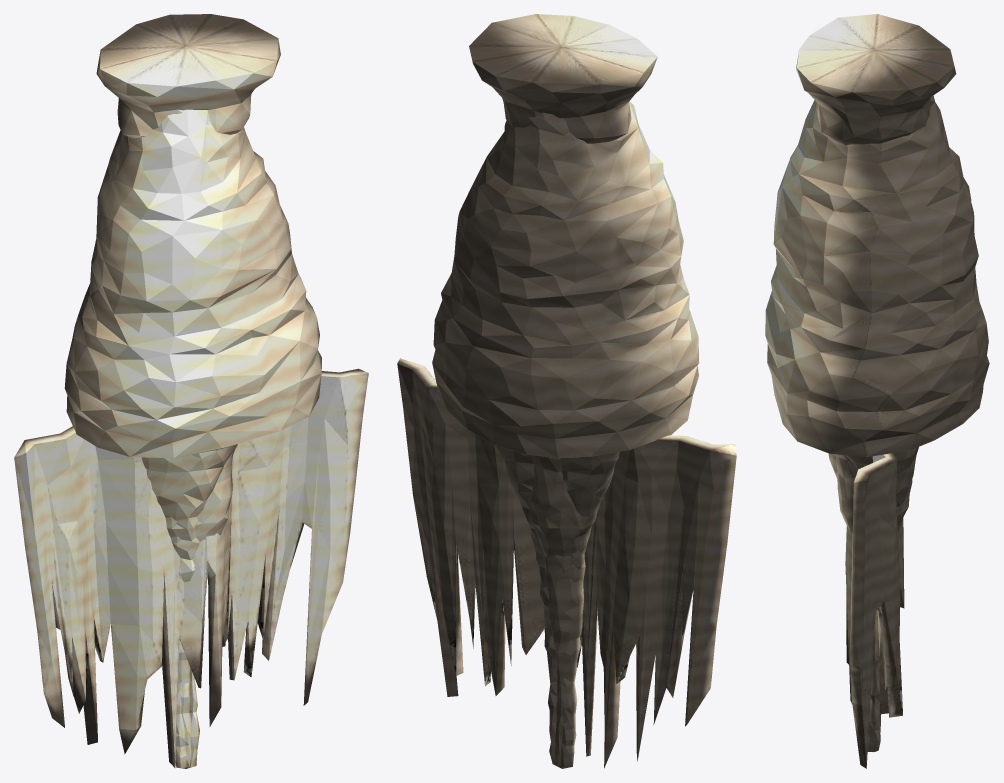
Rendered from cave_kit.glb.
3 renders of one model, left to right at view 1: azimuth 30°, elevation 25°; view 2: azimuth 150°, elevation 25°; view 3: azimuth 270°, elevation 25°, orthographic. The views are drawn at different scales.
Parts seen in each view (by area): view 1: curtain, stalagmite_a, column, stalactite_c, stalactite_b, stalactite_a; view 2: stalagmite_a, curtain, column, stalactite_c, stalactite_b, stalactite_a; view 3: stalagmite_a, column, curtain, stalactite_c, stalactite_b.
Boxes of the visible parts, x1,y1,x2,y2 form: curtain: (14,368,368,767); stalagmite_a: (64,109,321,458); column: (96,14,280,138); stalactite_c: (141,444,237,768); stalactite_b: (165,449,235,768); stalactite_a: (177,569,191,768); stalagmite_a: (432,101,699,458); curtain: (397,358,736,768); column: (469,14,657,143); stalactite_c: (495,445,619,767); stalactite_b: (531,455,591,768); stalactite_a: (546,560,585,768); stalagmite_a: (765,95,989,457); column: (796,14,956,145); curtain: (845,453,904,768); stalactite_c: (828,447,918,752); stalactite_b: (835,454,912,532).
Size of the model in its own units: 1.01 by 2.02 by 0.5864.
7 materials, 7 textured.
